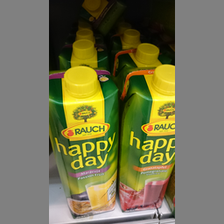juice: (50, 67, 120, 217), (117, 64, 176, 212)
